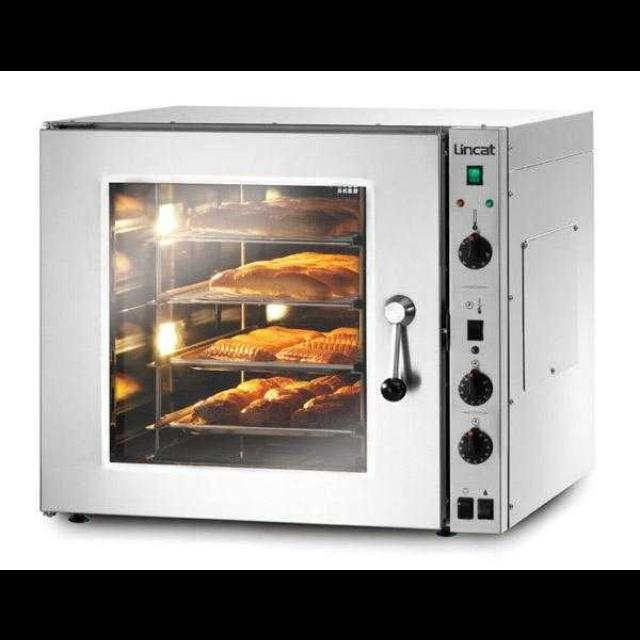Oven: (29, 114, 507, 536)
